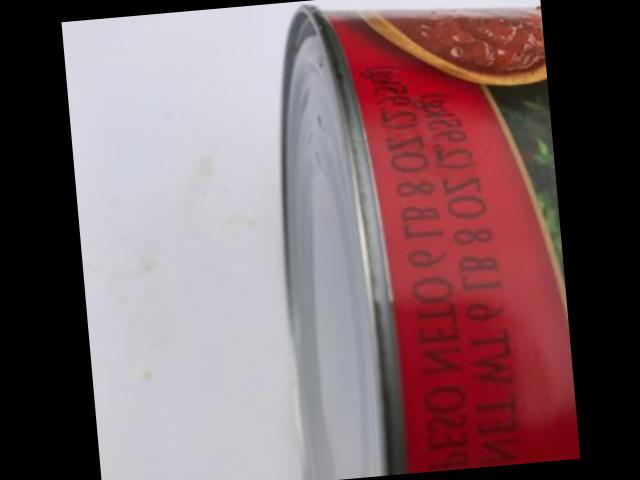metal: (279, 4, 580, 480)
